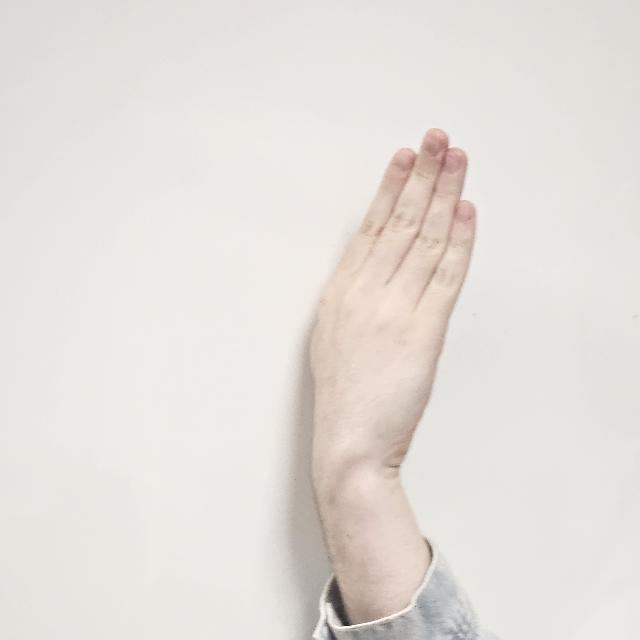Baixo: (298, 108, 480, 466)
